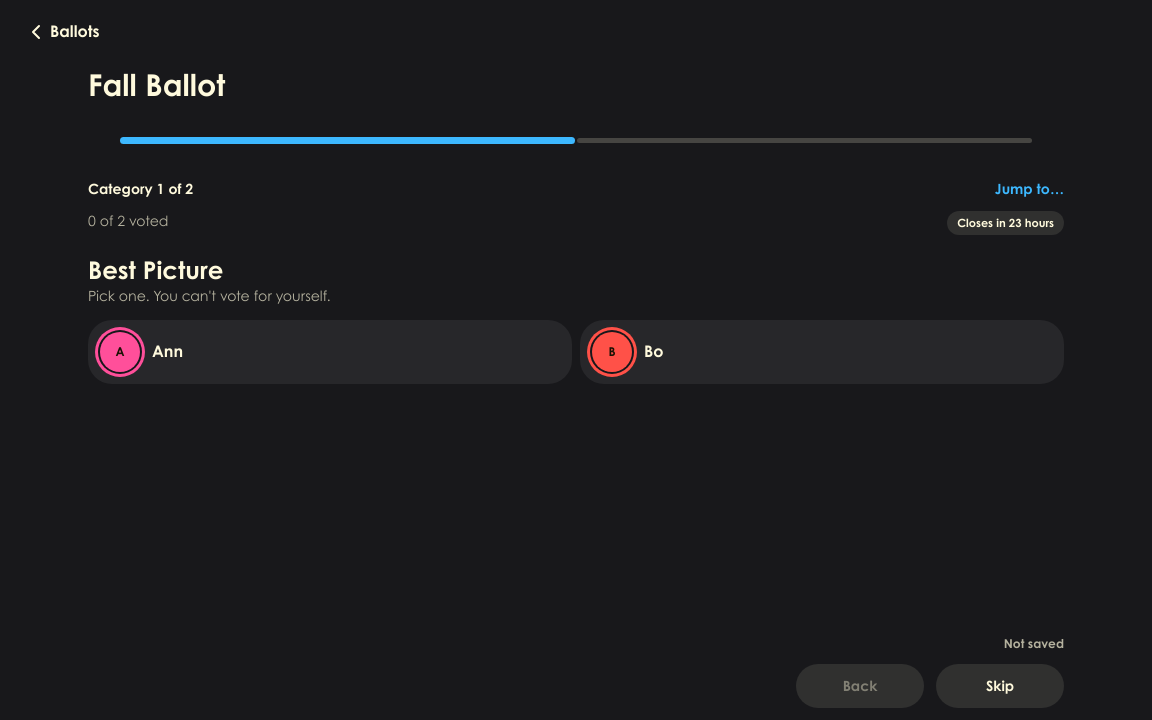
Scenario: VotePage behavior › failed save reverts and alerts in that category only
expect the element "Best Picture" is shown: met, box top-left (88, 255), bottom-right (1064, 384)
Click the radio button labelled "A Ann": click(120, 352) top-left (88, 320), bottom-right (572, 384)
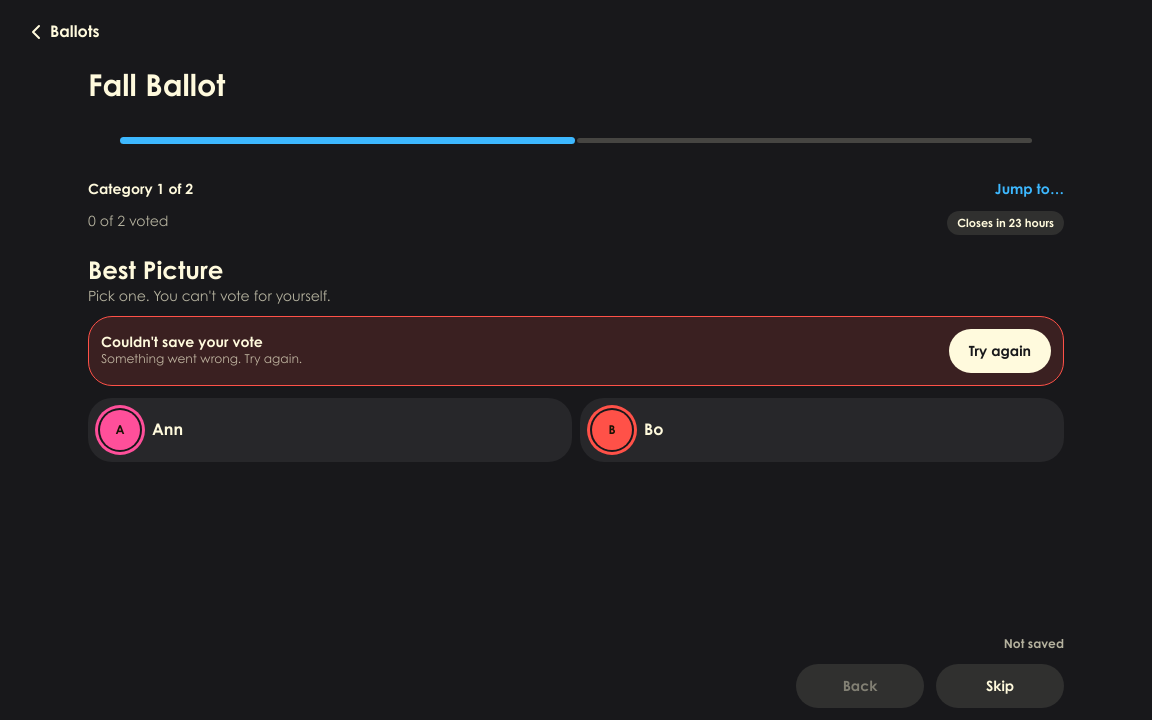
expect the text "0 of 2 voted" is shown: met, box top-left (88, 213), bottom-right (168, 233)
expect the message shows "Couldn't save": met, box top-left (101, 333), bottom-right (263, 350)
